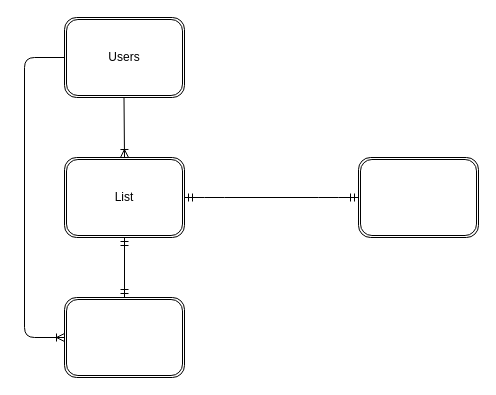
This 496x395 diagram has some shape labels left out. The shapes that lost their labels are listed below. From the top down, each one's centre as x and y in pixels, then its label:
At [418,197]: "Purchases".
At [124,337]: "Items".
